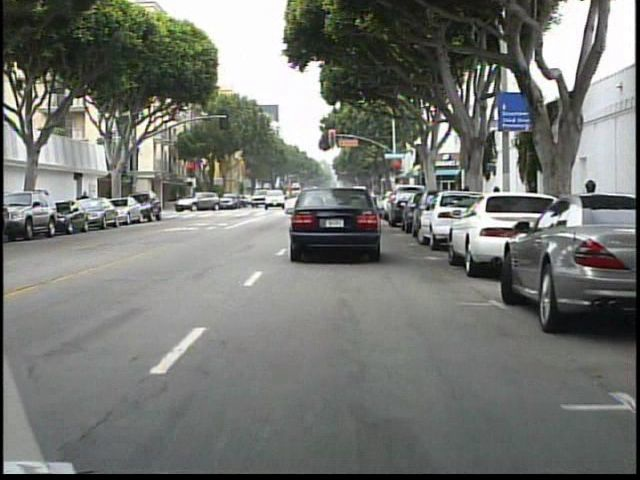person: (78, 186, 96, 224), (175, 190, 190, 216)
